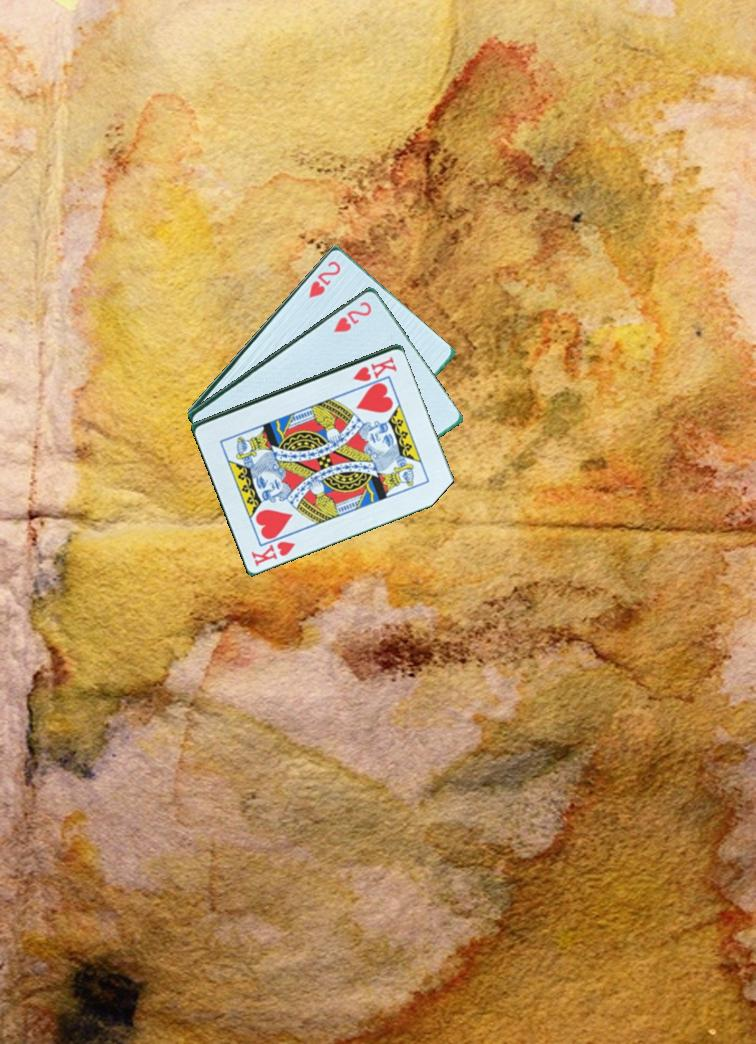2h: (305, 257, 345, 301), (330, 297, 376, 335)
kh: (348, 352, 399, 384), (248, 537, 298, 569)
